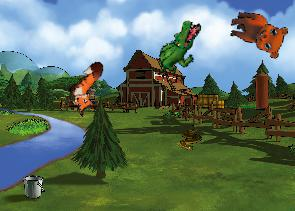bear: (225, 9, 289, 60)
crocodile: (155, 15, 202, 81)
fox: (59, 58, 120, 119)
